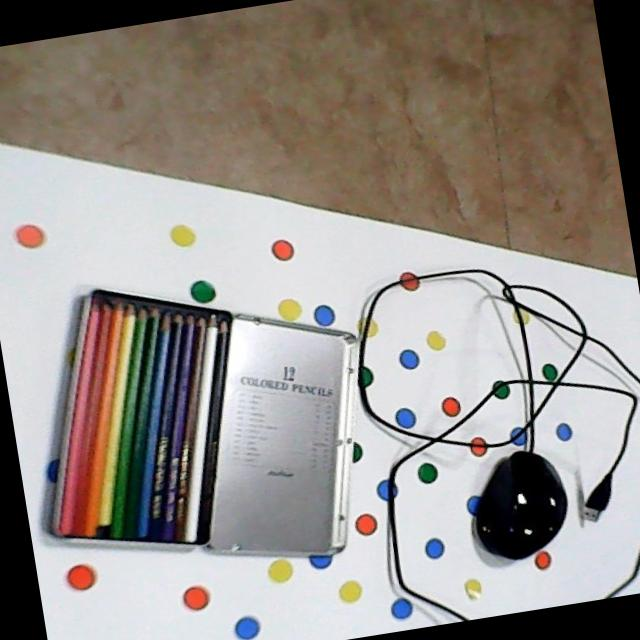color: (36, 283, 241, 560)
mouse: (469, 446, 572, 569)
